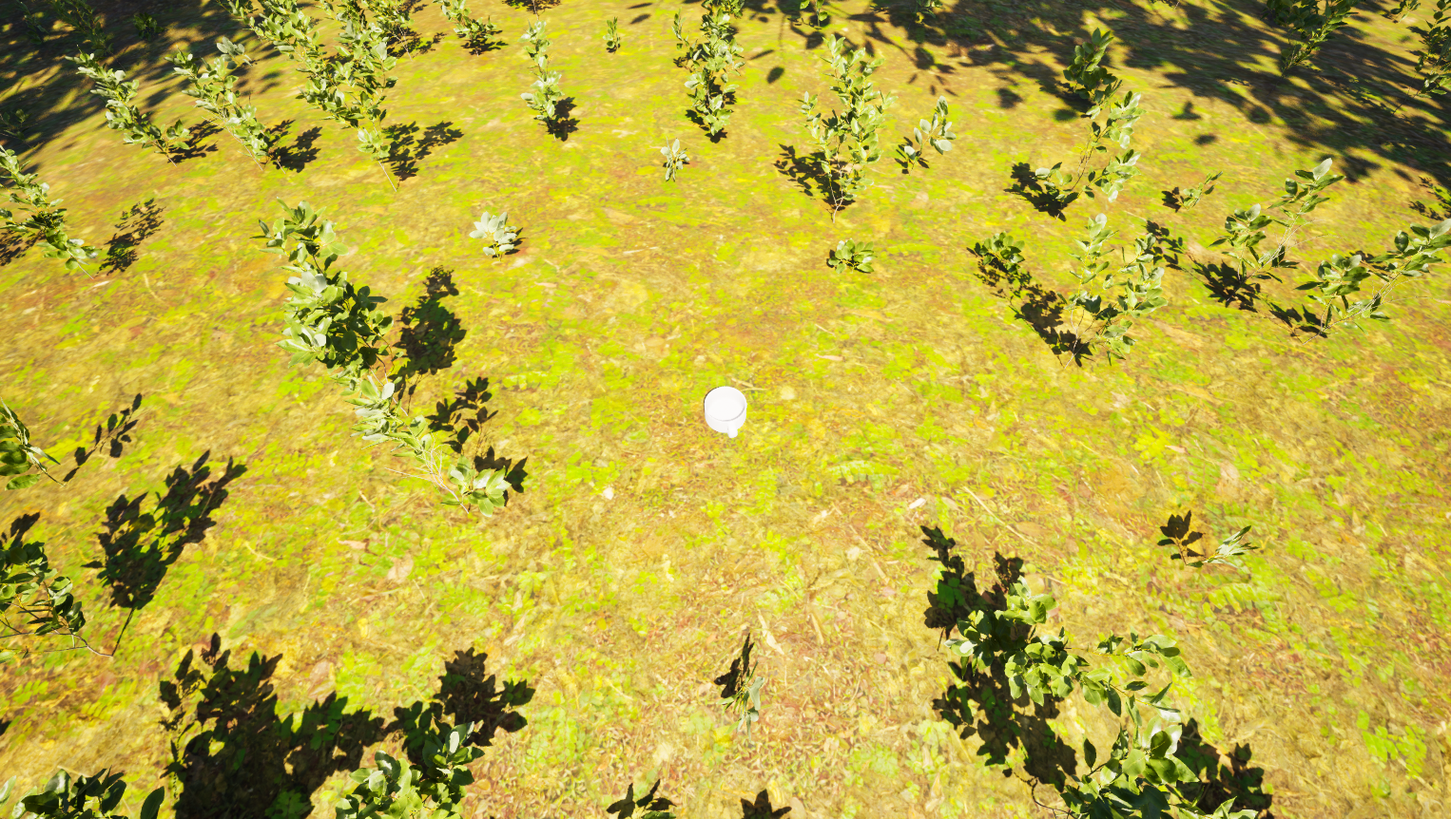Teacup: (696, 382, 752, 443)
